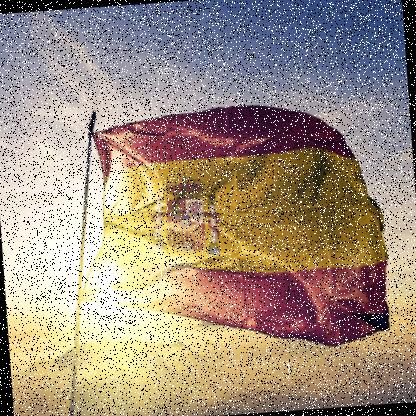es: (87, 94, 397, 366)
